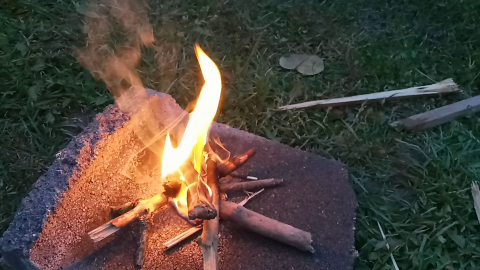fire: (162, 36, 228, 204)
